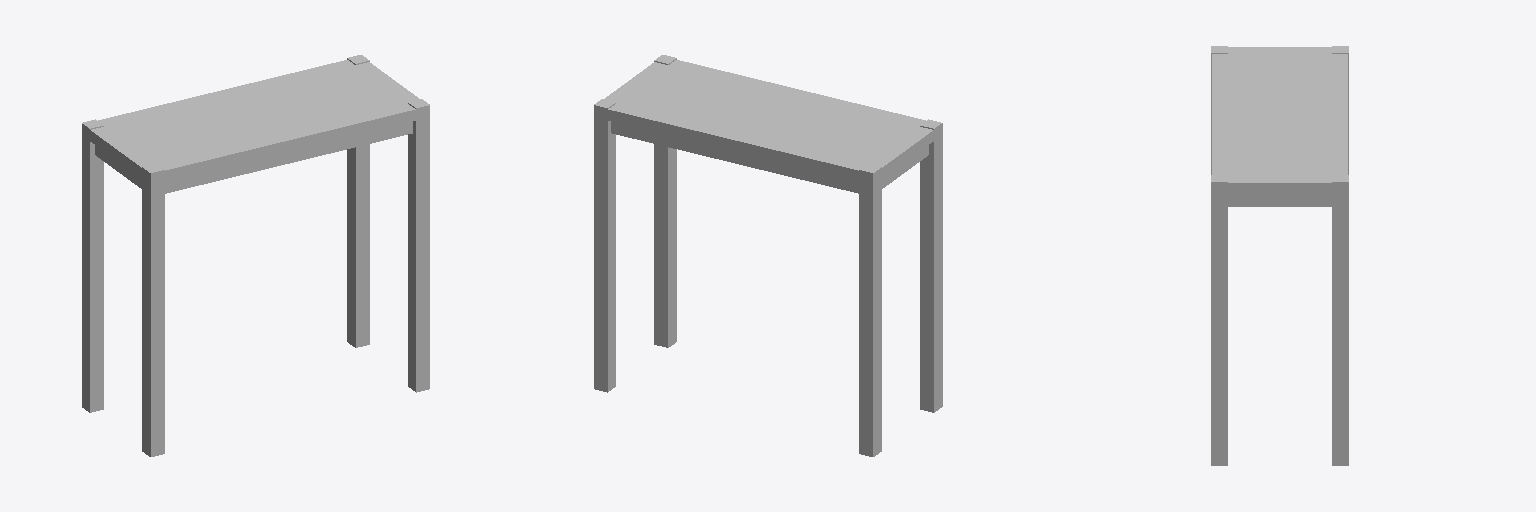
File: table.obj
3 renders of one model, left to right at view 1: azimuth 30°, elevation 25°; view 2: azimuth 150°, elevation 25°; view 3: azimuth 270°, elevation 25°, orthographic.
Visible parts, largest first — view 1: Cube_Cube.001; view 2: Cube_Cube.001; view 3: Cube_Cube.001.
Boxes of the visible parts, <box> form: Cube_Cube.001: <box>82,55,429,456</box>; Cube_Cube.001: <box>594,55,942,456</box>; Cube_Cube.001: <box>1211,46,1348,465</box>.
Size of the model in its own units: 10.02 by 9.72 by 4.28.